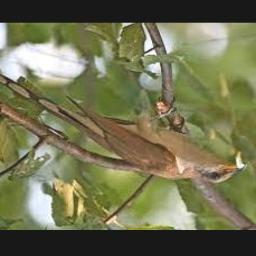Cuckoo: (0, 71, 247, 183)
